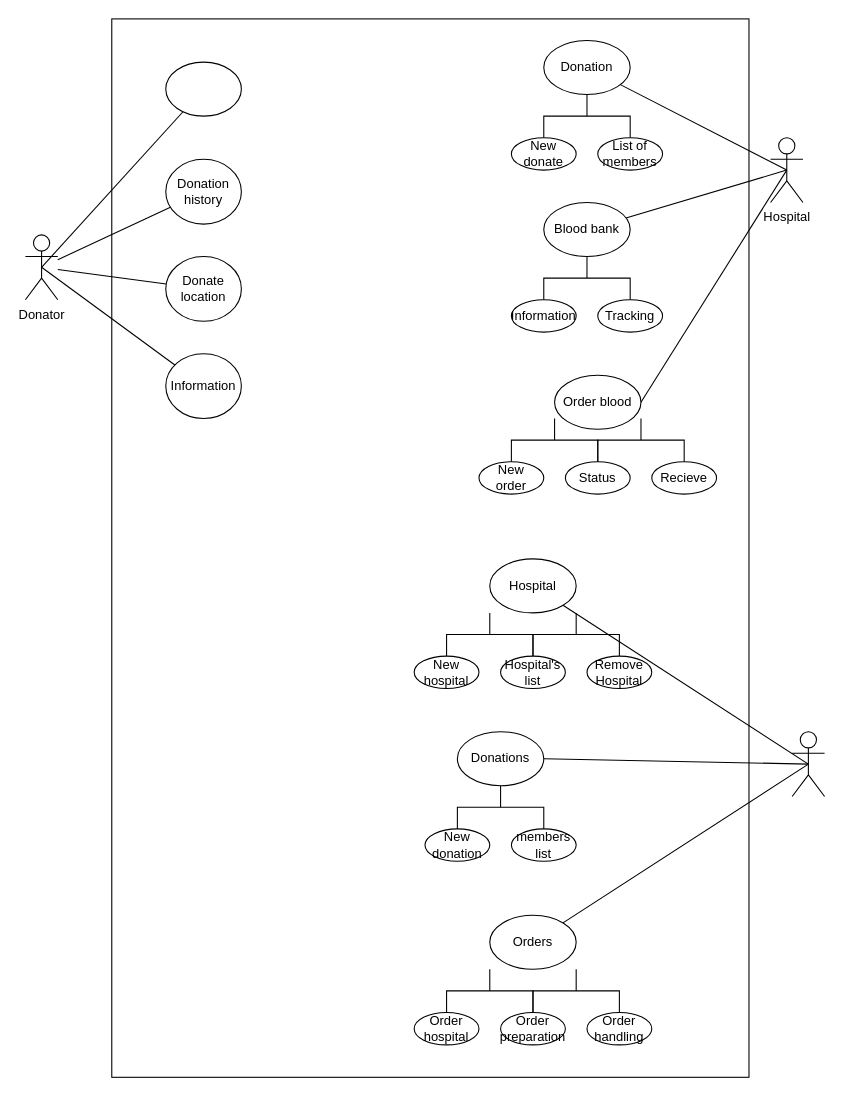
Image size: 843x1096. Some labels were removed from this diagram. The shapes that lost their labels are listed below. From the top down, each one's centre as x and y in pixels, then its label:
point (203, 88): Log in
point (808, 763): MDA
